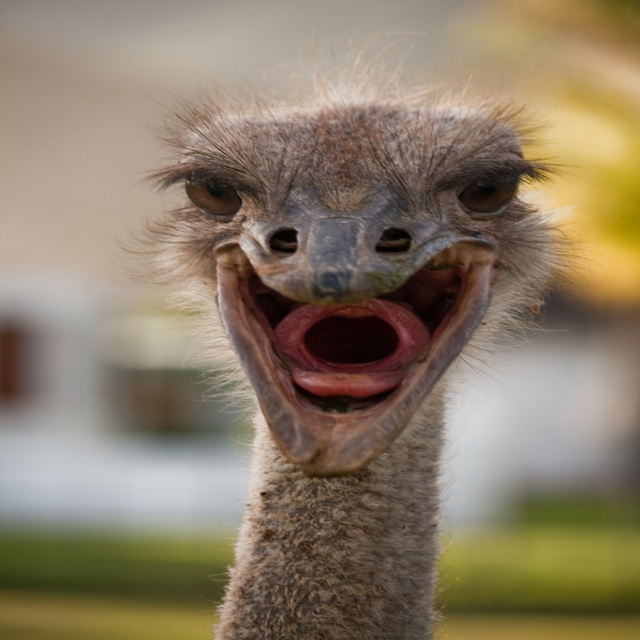Ostrich: (128, 97, 569, 640)
